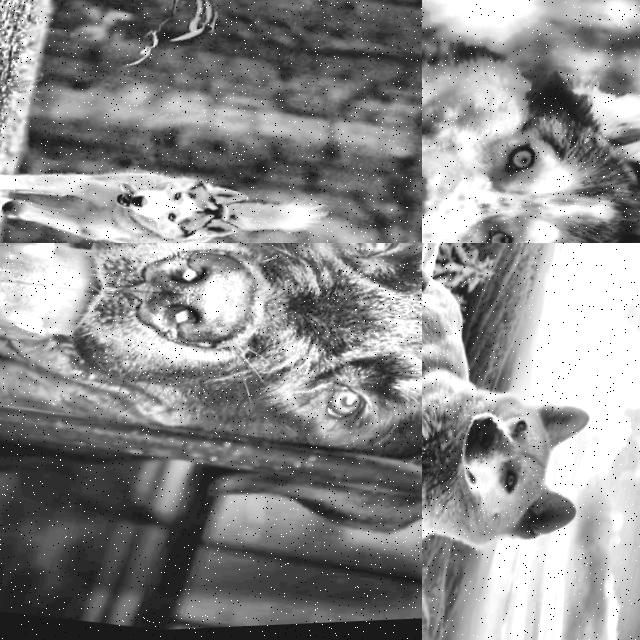husky: (422, 0, 640, 243), (422, 336, 635, 581), (98, 156, 267, 243)
rottweiler: (0, 243, 422, 550)
